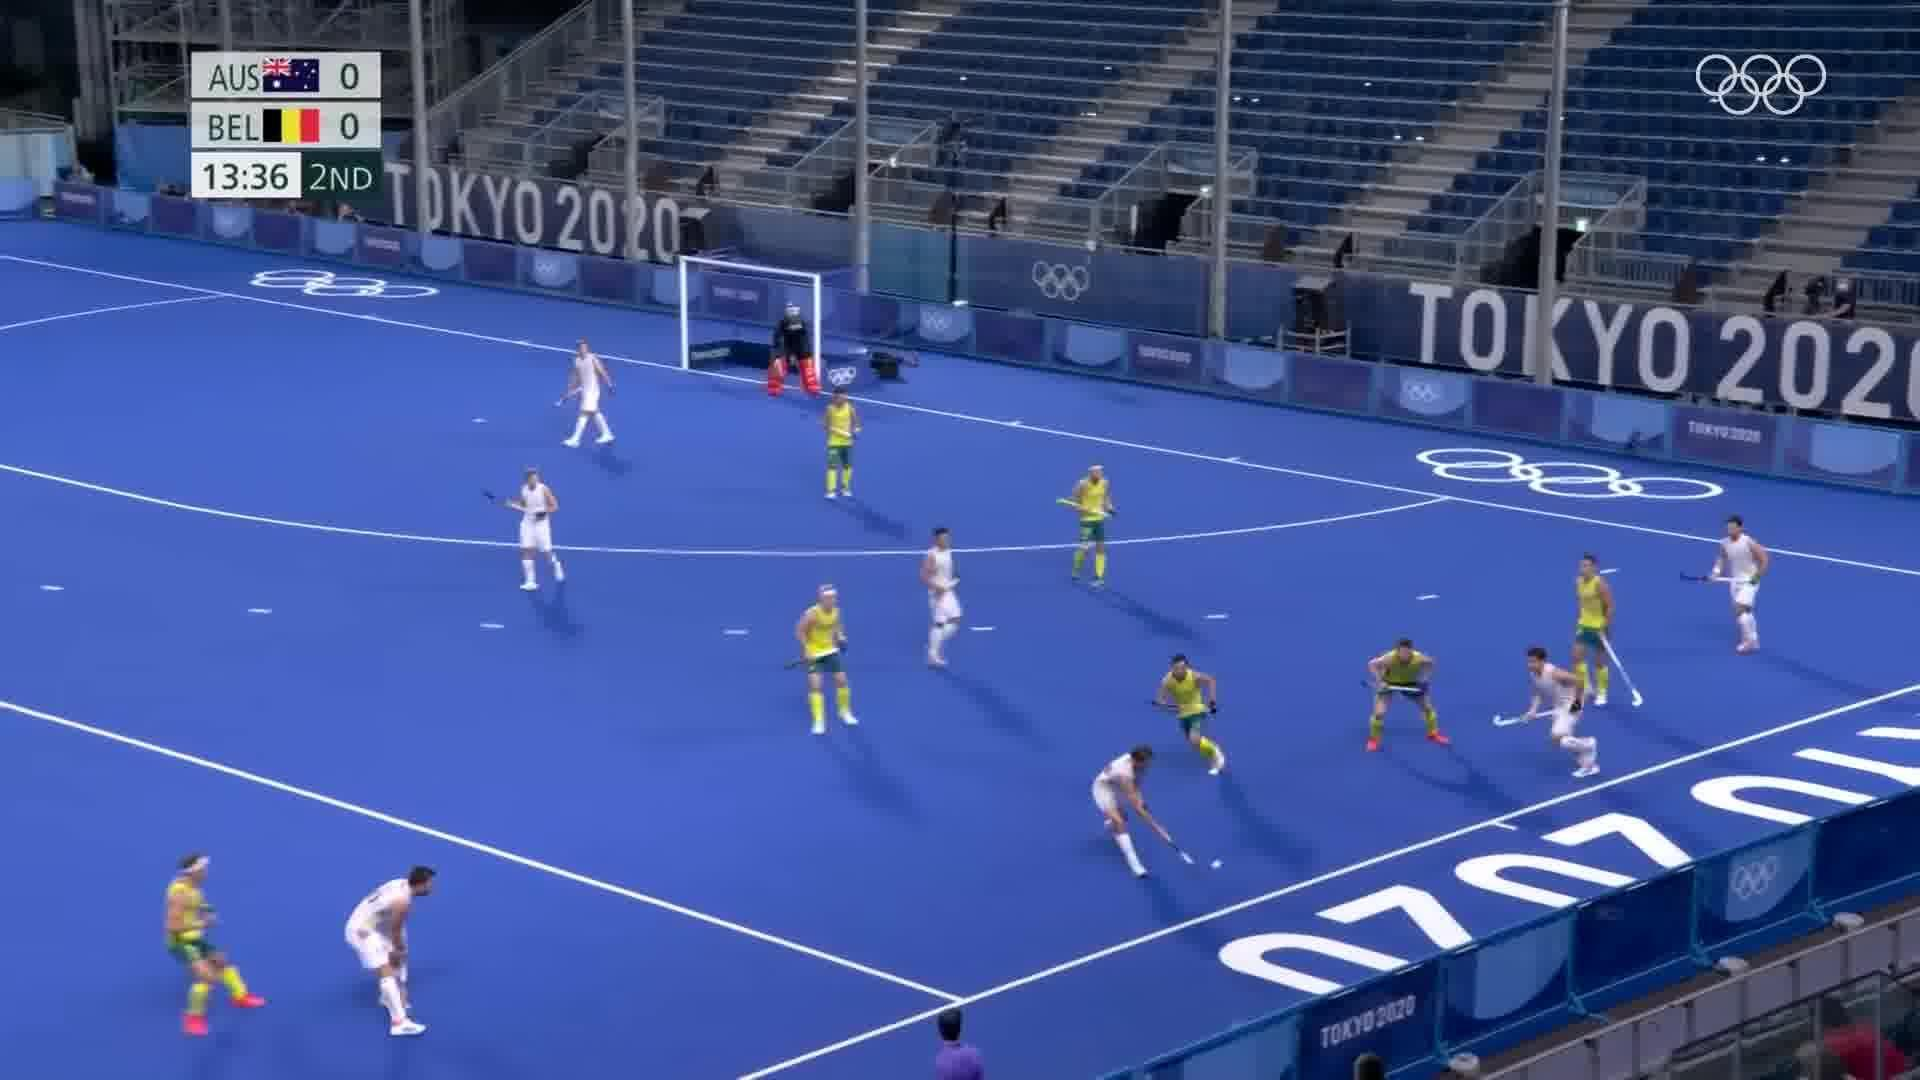ball: (1197, 851, 1240, 877)
